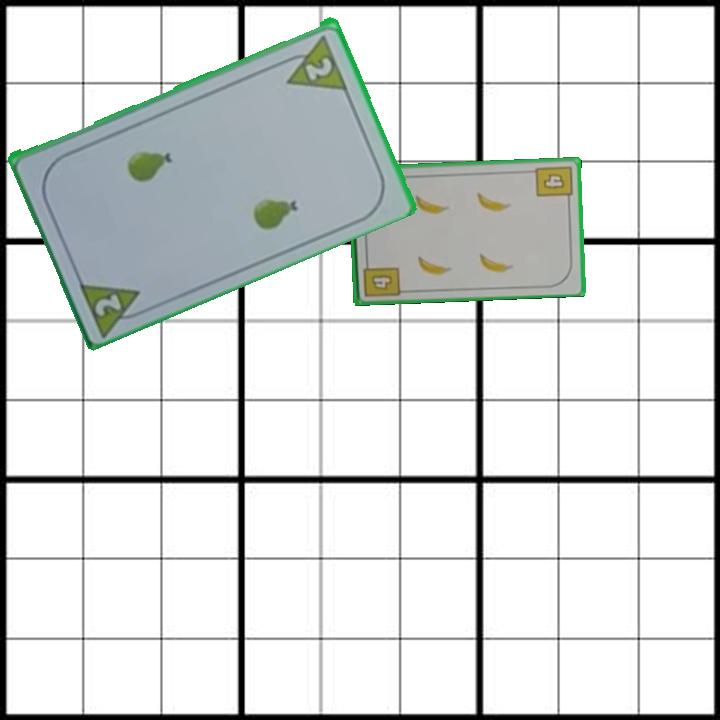2p: (276, 31, 350, 93), (91, 289, 125, 319)
4b: (359, 255, 402, 300), (532, 162, 575, 206)
